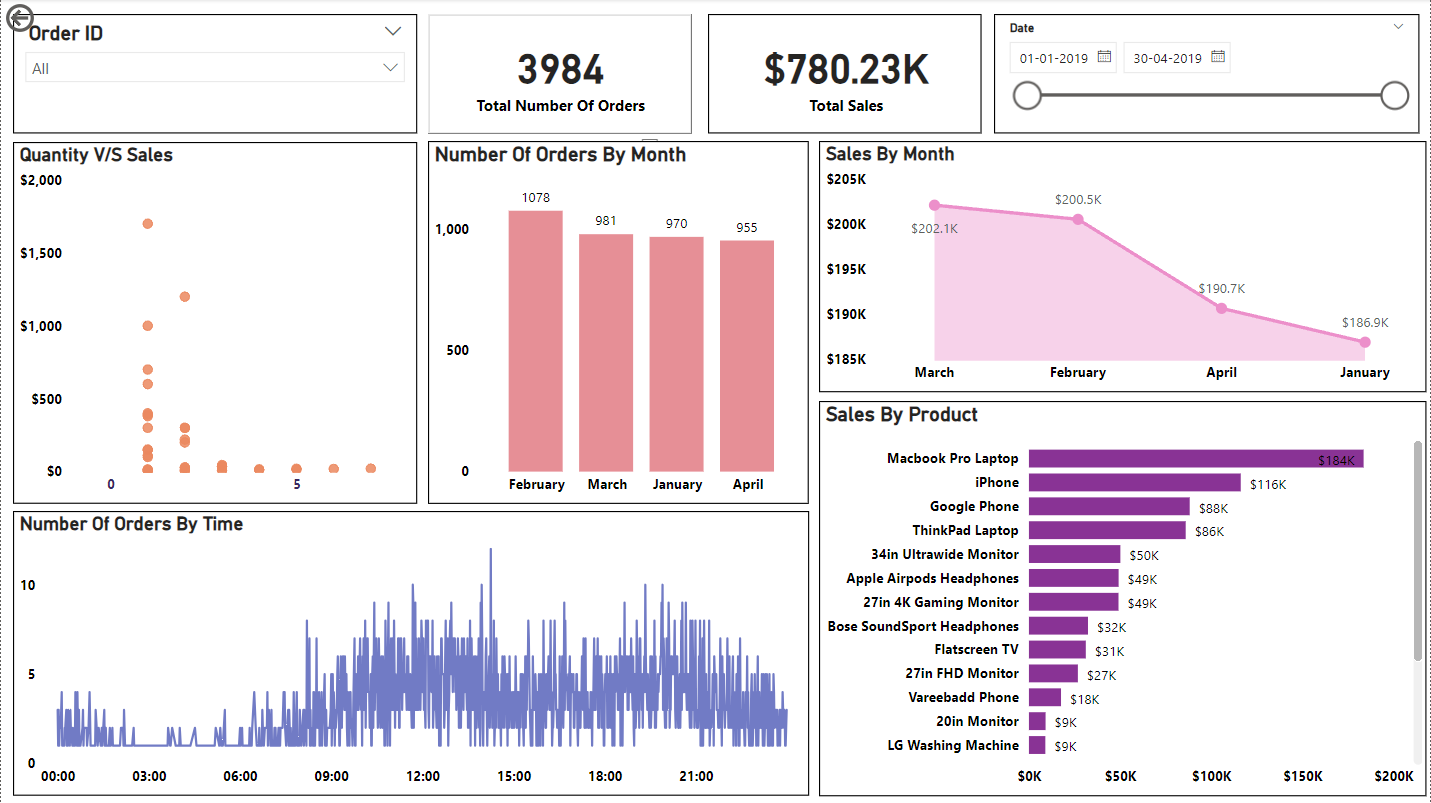

This screenshot's page, from the dashboard's own definition file:
{"tool":"powerbi","page":{"name":"Requirements","canvas":[1280,720],"ordinal":0},"visuals":[{"type":"slicer","fields":{"Values":["Sales Combined.Order ID"]},"box":[10.7,13.4,361.8,106.6],"z":0},{"type":"card","fields":{"Values":["Count(Sales Combined.Order ID)"]},"box":[382.4,13.4,235.5,106.6],"z":1000},{"type":"card","fields":{"Values":["Sum(Sales Combined.Sales)"]},"box":[633.1,13.4,245.4,106.6],"z":2000},{"type":"barChart","title":"Sales By Product","fields":{"Category":["Sales Combined.Product"],"Y":["Sum(Sales Combined.Sales)"]},"box":[732.5,360,544.5,353.7],"z":3000},{"type":"areaChart","title":"Sales By Month","fields":{"Category":["Sales Combined.Month Name"],"Y":["Sum(Sales Combined.Sales)"]},"box":[732.5,127.2,544.5,224.8],"z":4000},{"type":"columnChart","title":"Number Of Orders By Month","fields":{"Y":["Count(Sales Combined.Order ID)"],"Category":["Sales Combined.Month Name"]},"box":[382.4,127.2,341.2,325.1],"z":5000},{"type":"lineChart","title":"Number Of Orders By Time","fields":{"Y":["Count(Sales Combined.Order ID)"],"Category":["Sales Combined.Time"]},"box":[10.7,458.5,712.8,255.2],"z":6000},{"type":"scatterChart","title":"Quantity V/S Sales","fields":{"Y":["Sales Combined.Sales"],"X":["Sales Combined.Quantity Ordered"]},"box":[10.7,128.1,361.8,324.2],"z":7000},{"type":"actionButton","box":[0,0,78.7,34],"z":8000},{"type":"slicer","fields":{"Values":["Sales Combined.Date"]},"box":[889.3,13.4,380.6,106.6],"z":9000}]}

Visuals, with their boxes in screenshot pixels (x1, y1, x2, y2), scaled from the page's 1280x720 canvas onto the 1431x803 screenshot:
slicer - Sales Combined.Order ID: 12, 15, 416, 134
card - Count(Sales Combined.Order ID): 428, 15, 691, 134
card - Sum(Sales Combined.Sales): 708, 15, 982, 134
"Sales By Product" barChart: 819, 402, 1428, 796
"Sales By Month" areaChart: 819, 142, 1428, 393
"Number Of Orders By Month" columnChart: 428, 142, 809, 504
"Number Of Orders By Time" lineChart: 12, 511, 809, 796
"Quantity V/S Sales" scatterChart: 12, 143, 416, 504
actionButton: 0, 0, 88, 38
slicer - Sales Combined.Date: 994, 15, 1420, 134
